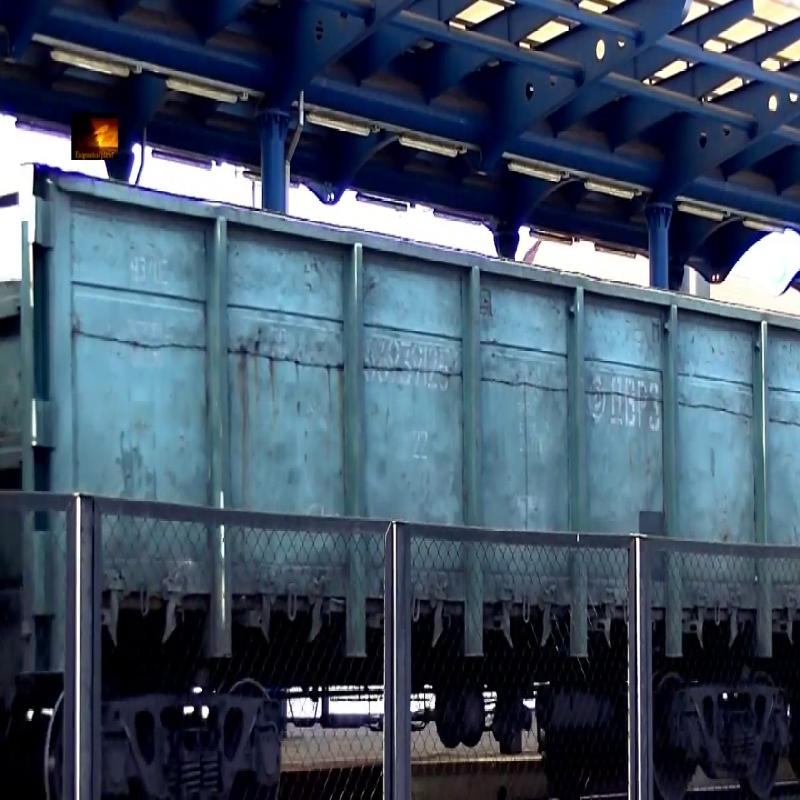train: (71, 49, 800, 773)
